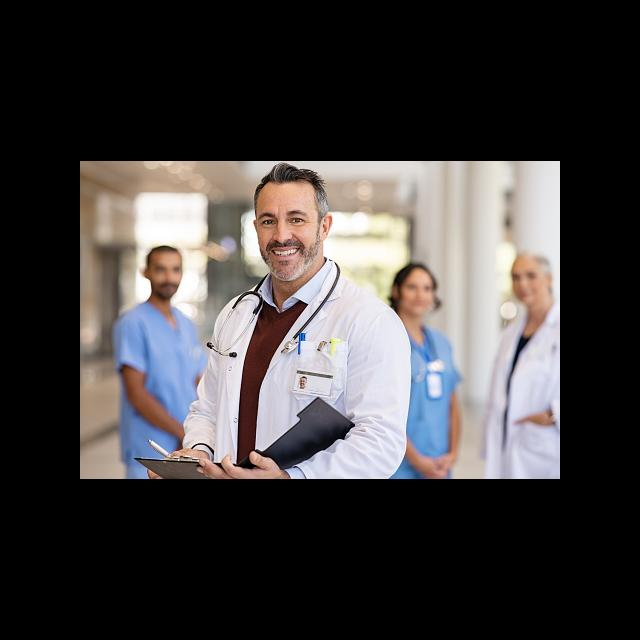female: (387, 250, 446, 313), (496, 256, 560, 311)
male: (239, 161, 345, 286), (109, 233, 199, 304)
